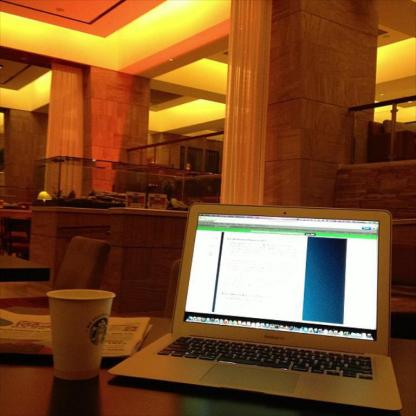board: (108, 200, 402, 414)
